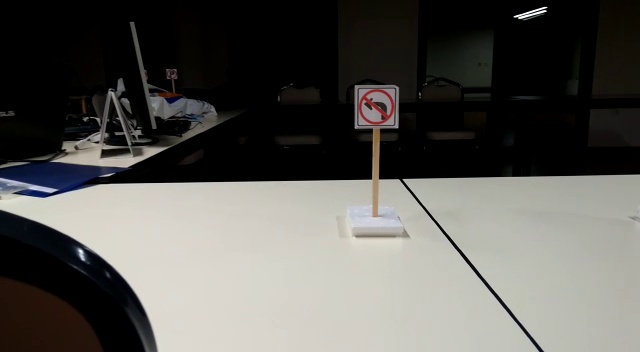sola_donulmez: (354, 86, 395, 129)
